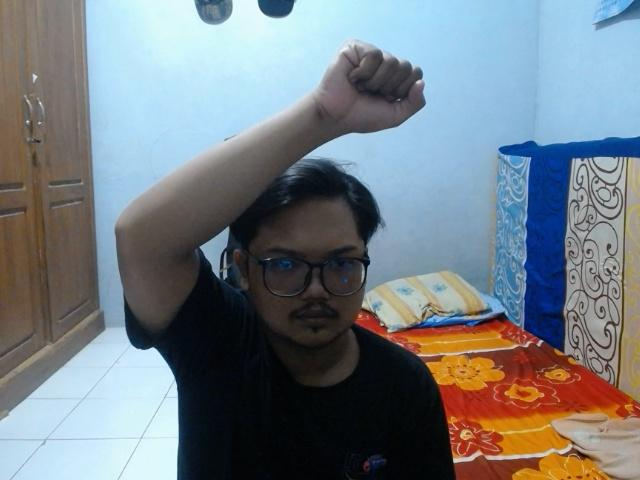Grab: (313, 36, 431, 134)
